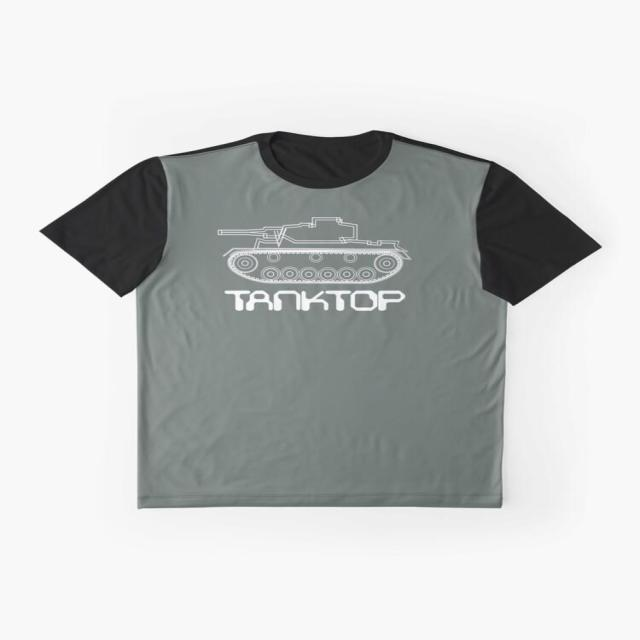Tanks: (214, 205, 413, 285)
